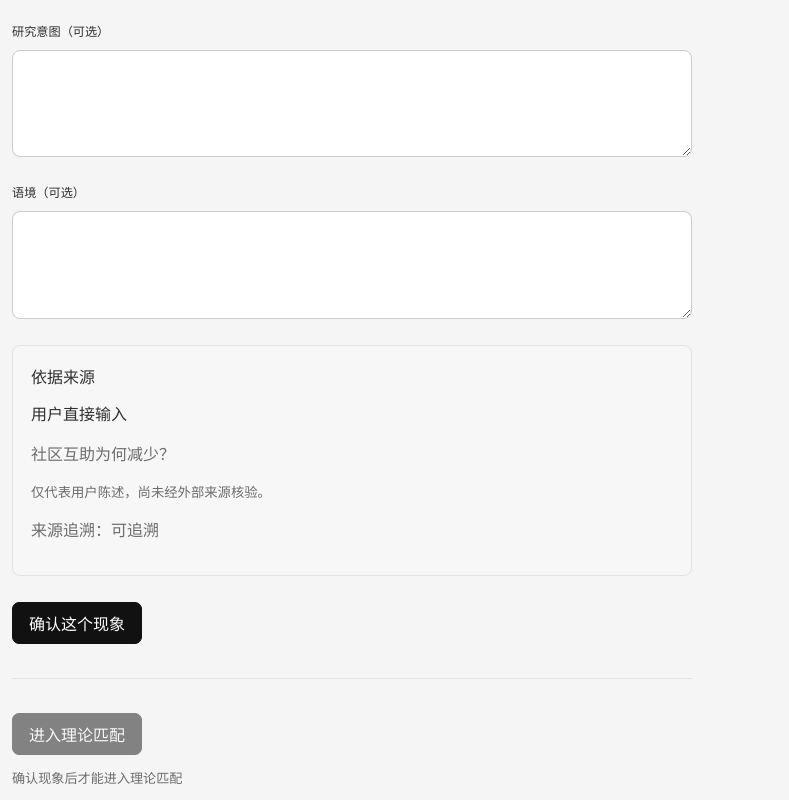
it: phenomenon confirmation workspace › confirms an untouched system candidate without relabeling it
This screenshot has width=789, height=800.
(page scrolled)
Click the button "确认这个现象".
click(77, 623)  # box [12,602,142,644]
(page scrolled)
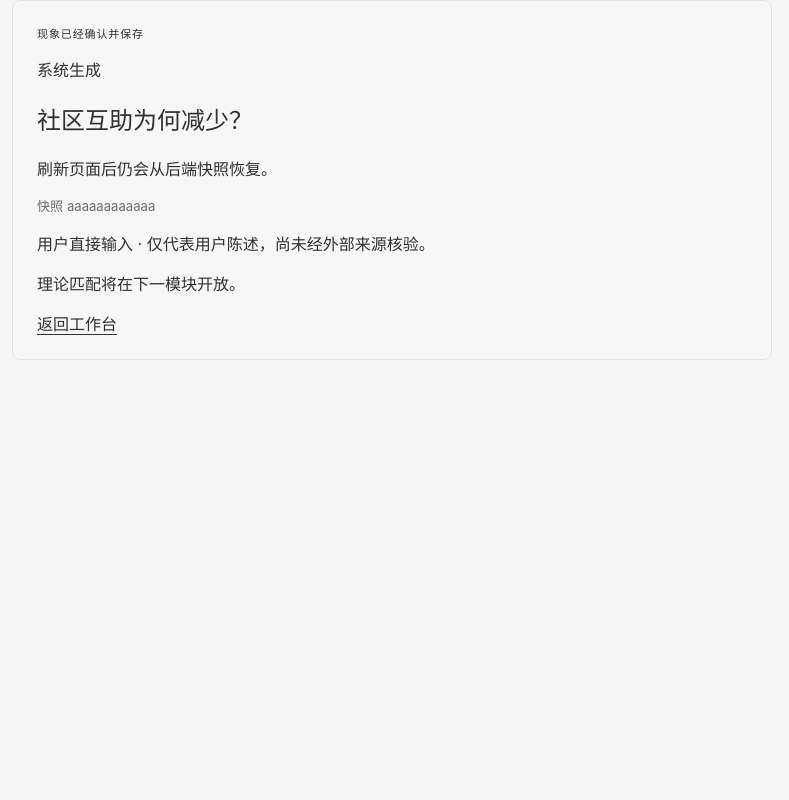
Expected: the text "系统生成" is shown, [37,57,101,81]
Result: the text "现象已经确认并保存" is shown at [37,27,144,41]
